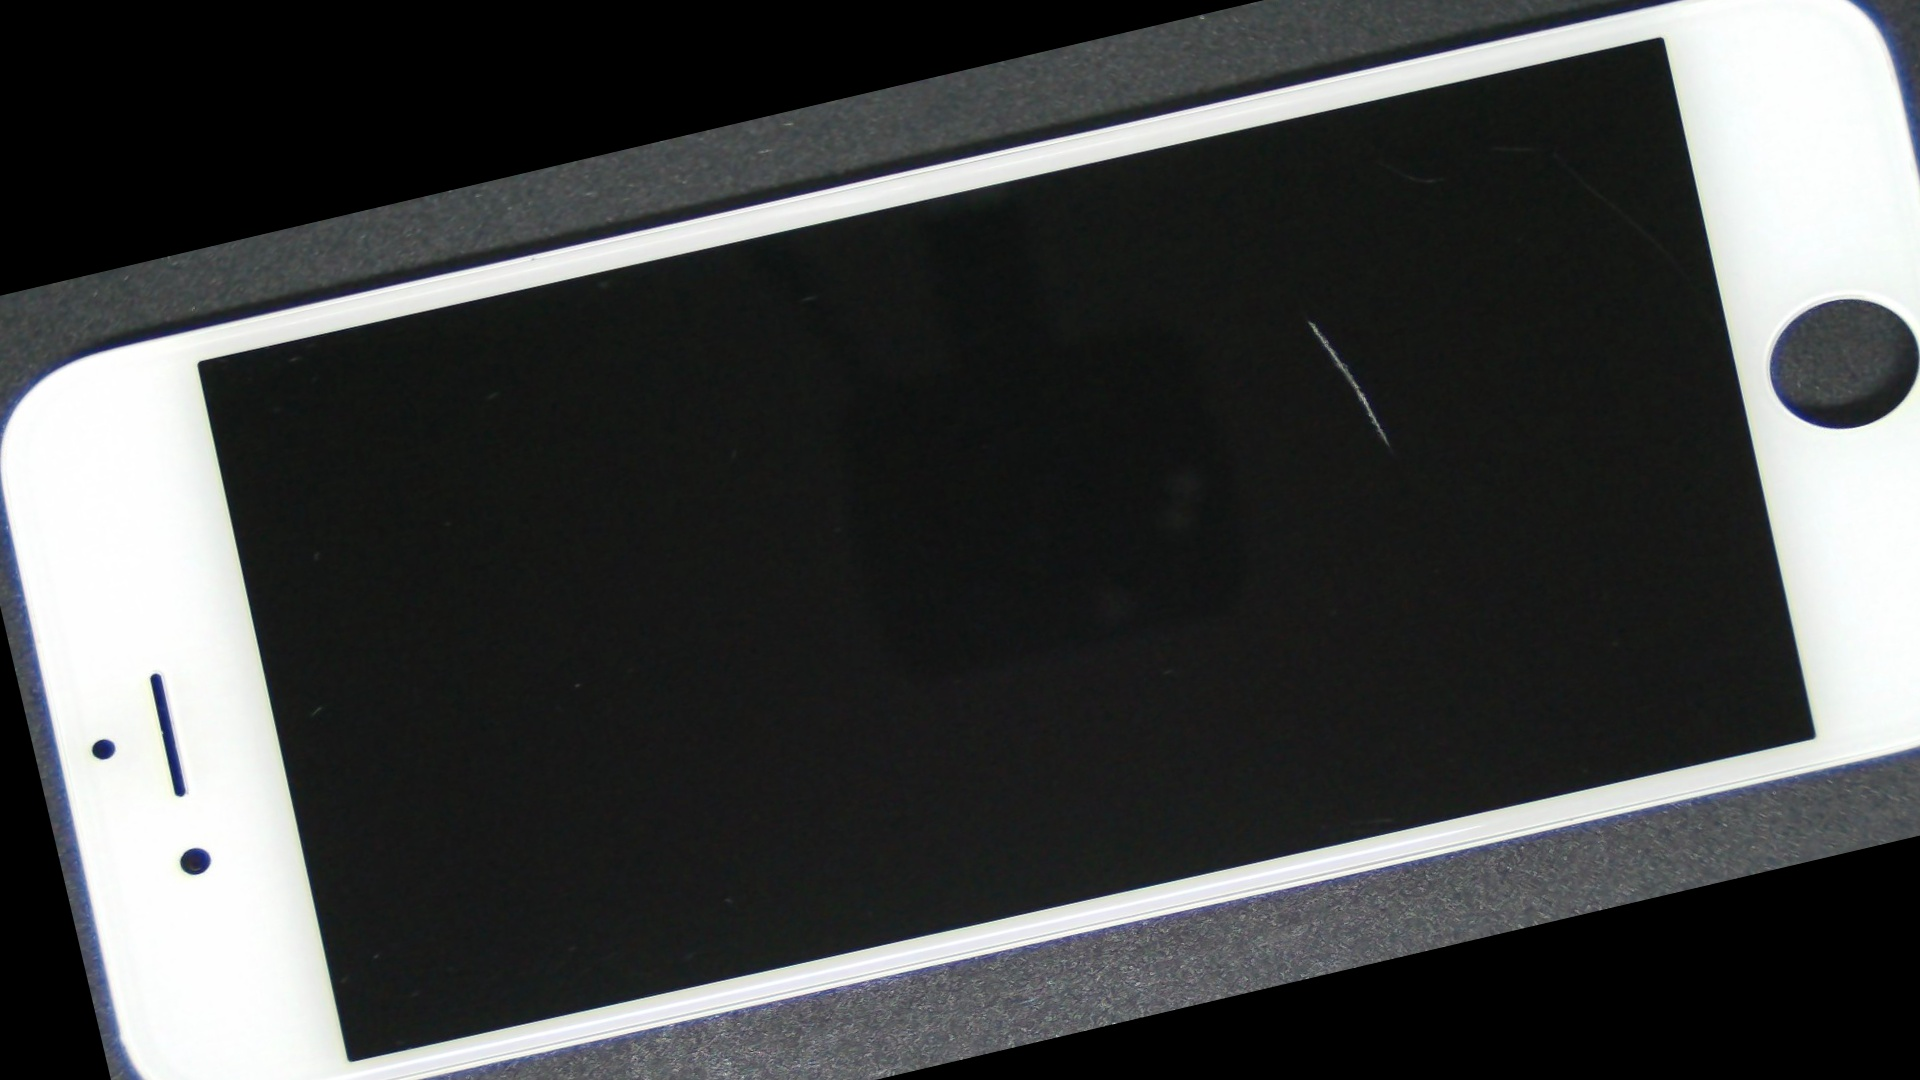oil: (618, 9, 1920, 632)
